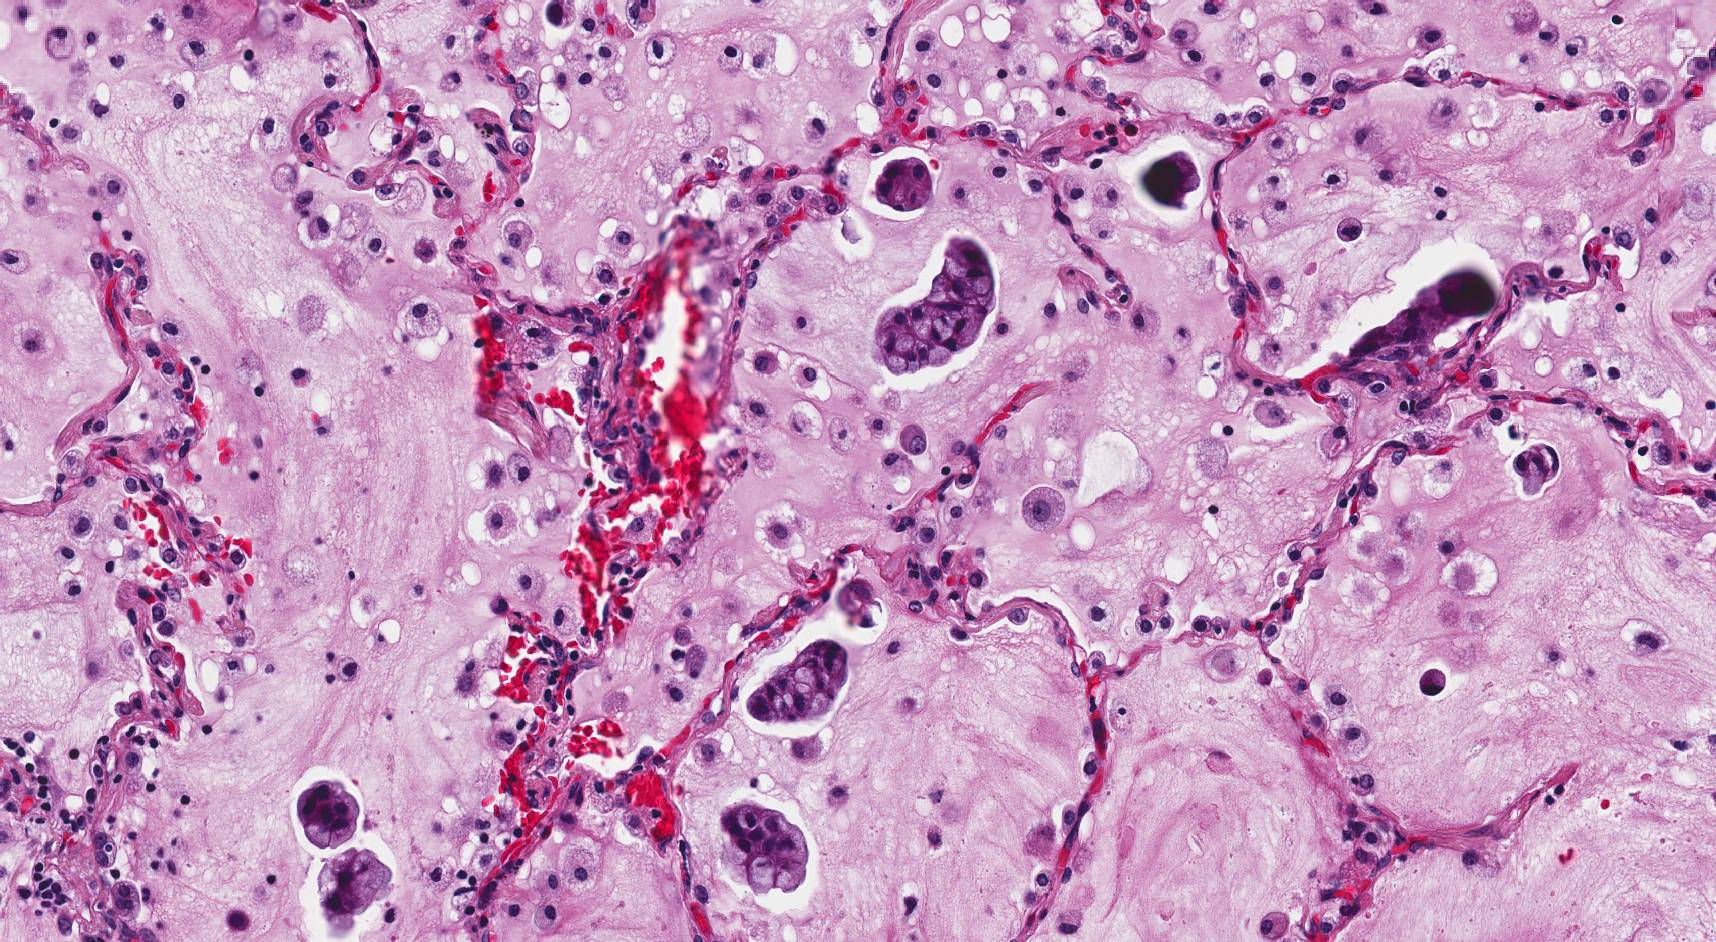stas: (873, 239, 997, 373), (744, 638, 849, 727), (718, 803, 810, 894), (316, 847, 390, 940), (298, 781, 360, 848), (874, 157, 938, 210), (1145, 151, 1202, 210), (1509, 443, 1561, 495)
